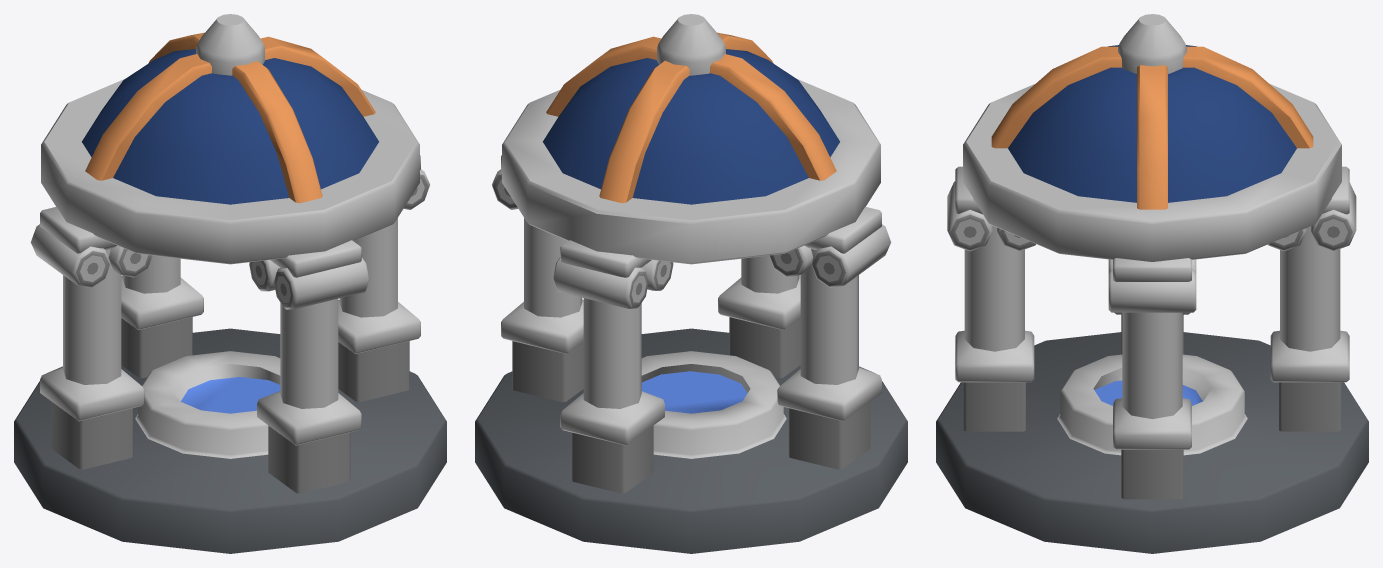
Rendered from Fountain.fbx.
The picture shows the model from 3 angles, left to right: view 1: azimuth 30°, elevation 25°; view 2: azimuth 150°, elevation 25°; view 3: azimuth 270°, elevation 25°; orthographic projection.
Parts seen in each view (by area): view 1: Sphere.020, Sphere.021, Cube.1499, Cube.1500, Sphere.022, Cylinder.306, Cylinder.307; view 2: Sphere.020, Sphere.021, Cube.1499, Cube.1500, Sphere.022, Cylinder.306, Cylinder.316; view 3: Sphere.021, Sphere.020, Cube.1500, Cube.1499, Sphere.022, Cylinder.306, Cylinder.307, Cylinder.316.
Boxes of the visible parts, bbox=[...] form: Sphere.020: bbox=[41, 14, 419, 264]; Sphere.021: bbox=[14, 328, 446, 553]; Cube.1499: bbox=[40, 155, 420, 469]; Cube.1500: bbox=[121, 240, 361, 493]; Sphere.022: bbox=[85, 32, 375, 203]; Cylinder.306: bbox=[30, 169, 429, 287]; Cylinder.307: bbox=[249, 257, 369, 309]; Sphere.020: bbox=[502, 14, 880, 264]; Sphere.021: bbox=[475, 328, 907, 553]; Cube.1499: bbox=[501, 155, 881, 469]; Cube.1500: bbox=[560, 240, 800, 493]; Sphere.022: bbox=[546, 32, 836, 203]; Cylinder.306: bbox=[492, 169, 891, 287]; Cylinder.316: bbox=[553, 257, 673, 308]; Sphere.021: bbox=[936, 332, 1368, 553]; Sphere.020: bbox=[963, 14, 1341, 261]; Cube.1500: bbox=[955, 166, 1349, 431]; Cube.1499: bbox=[1113, 258, 1191, 499]; Sphere.022: bbox=[991, 46, 1313, 209]; Cylinder.306: bbox=[1108, 259, 1196, 312]; Cylinder.307: bbox=[947, 181, 1035, 251]; Cylinder.316: bbox=[1267, 182, 1356, 251].
Bounding box in the file's own units: 113 × 128 × 113.
